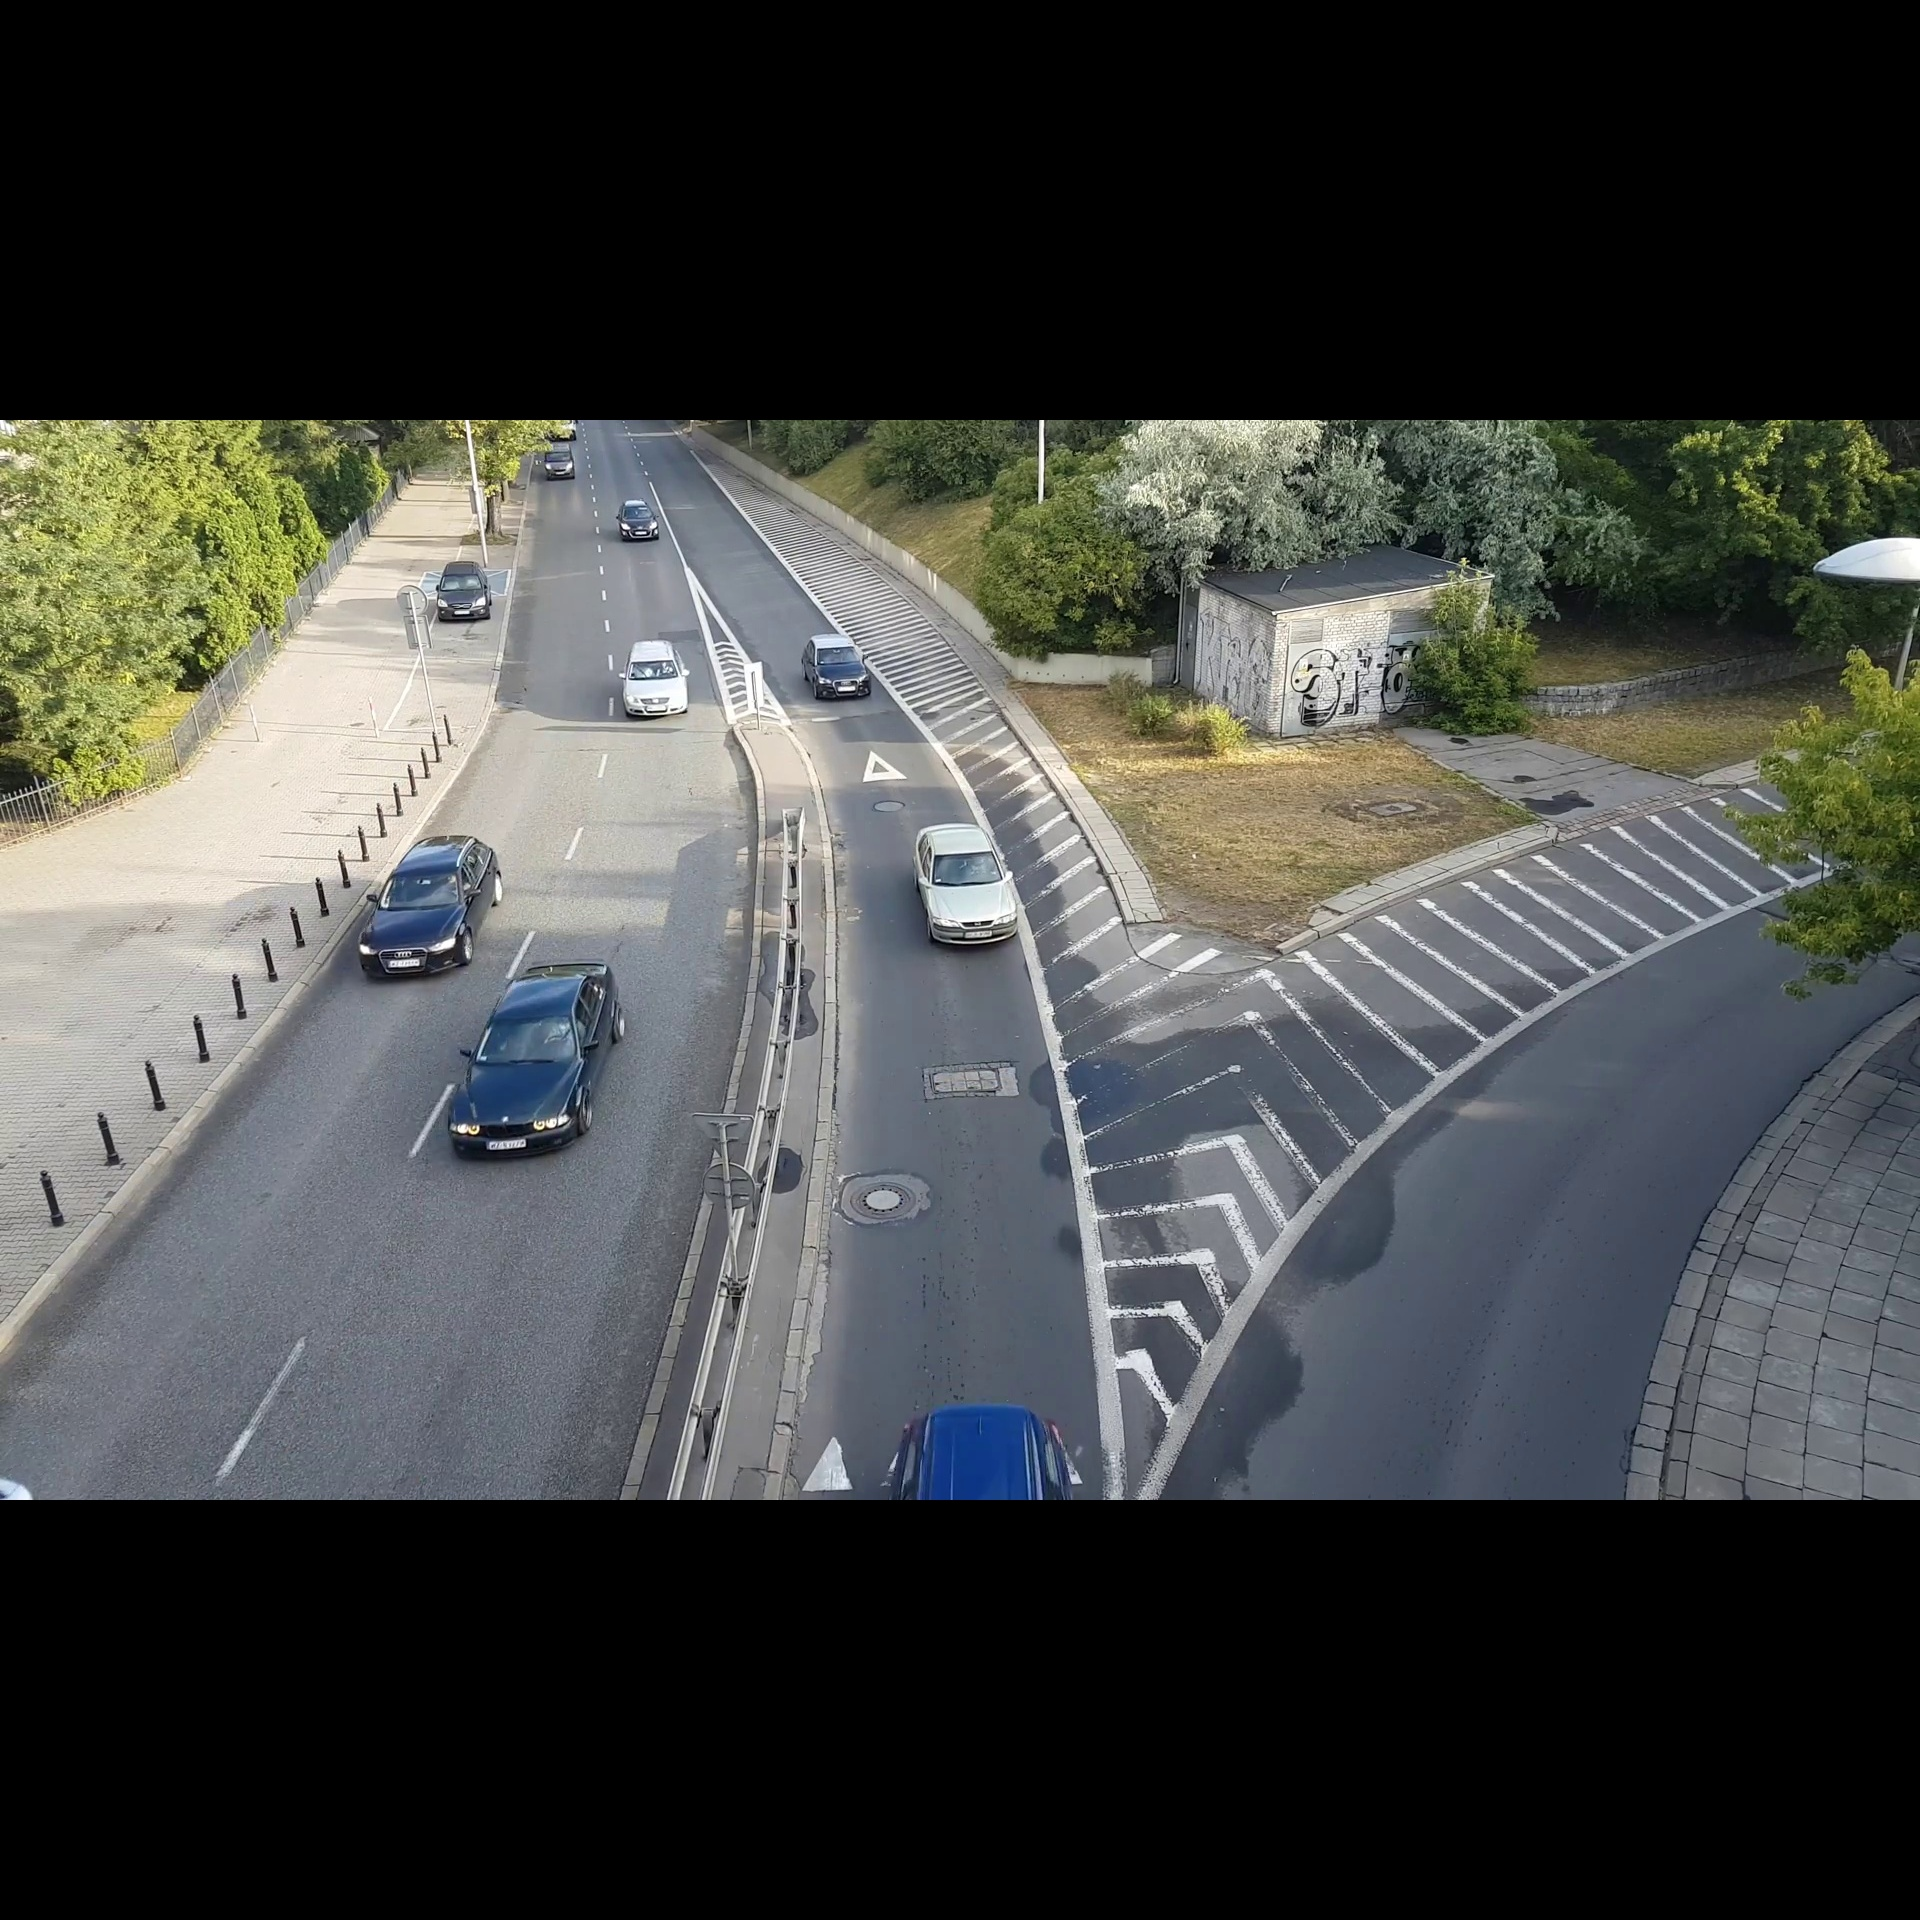vehicle: (445, 956, 635, 1164), (352, 830, 506, 988), (907, 811, 1023, 956), (614, 629, 700, 730), (795, 628, 881, 710), (429, 554, 496, 628), (615, 496, 663, 549), (542, 445, 577, 484)
